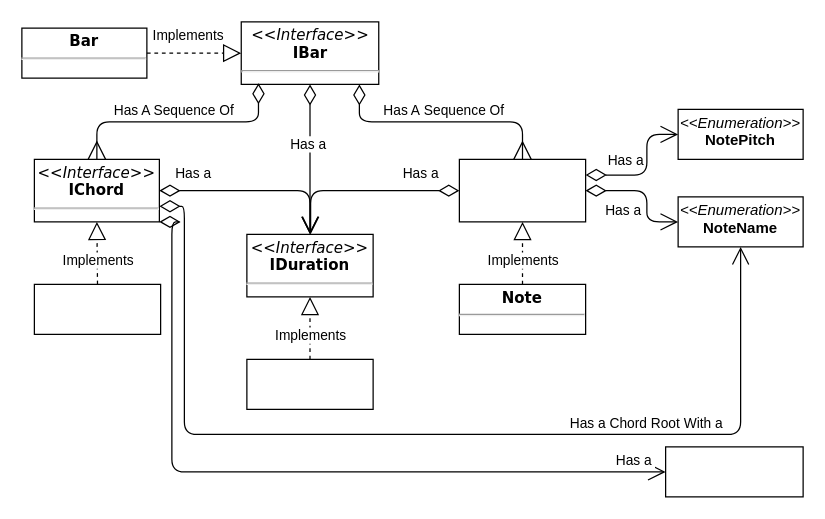
Some shapes in this 825 by 519 pixel diagram are drawn without their labels. The centre of each missing label's shape, as x and y in pixels:
<<Enumeration>> ChordType: the point at 733,471
<<Interface>> INote: the point at 522,190
Chord: the point at 97,308
Duration: the point at 309,383
